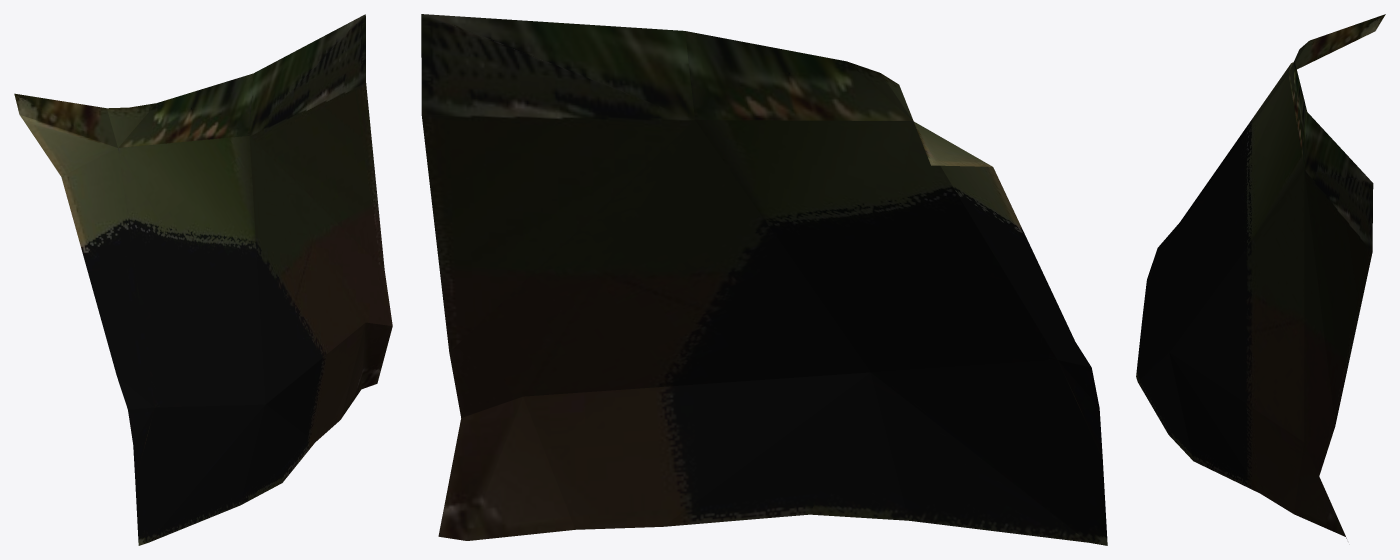
The picture shows the model from 3 angles, left to right: view 1: azimuth 30°, elevation 25°; view 2: azimuth 150°, elevation 25°; view 3: azimuth 270°, elevation 25°; orthographic projection. The views are drawn at different scales.
Bounding box in the file's own units: 1.67 × 1.67 × 1.05.
Materials: 3 (3 with a texture image).
